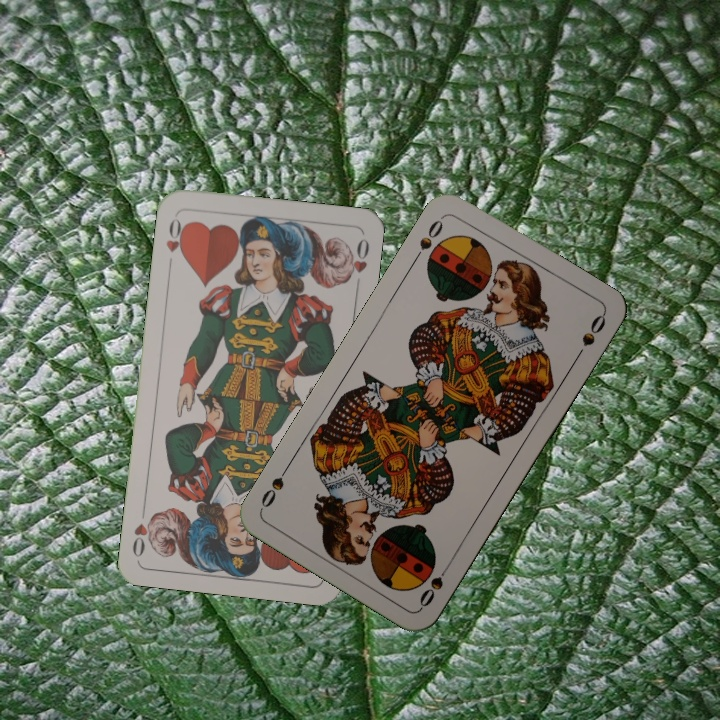HO: (162, 214, 189, 259)
SO: (415, 557, 455, 610), (409, 212, 448, 265)
